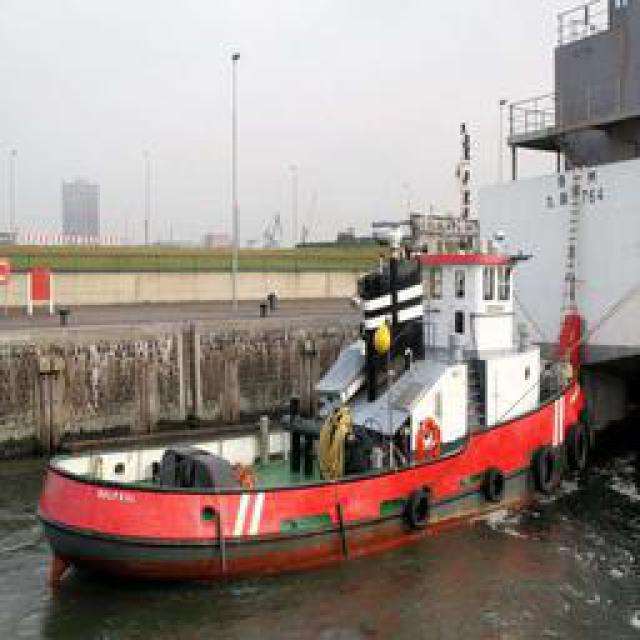Ship: (42, 142, 602, 590)
